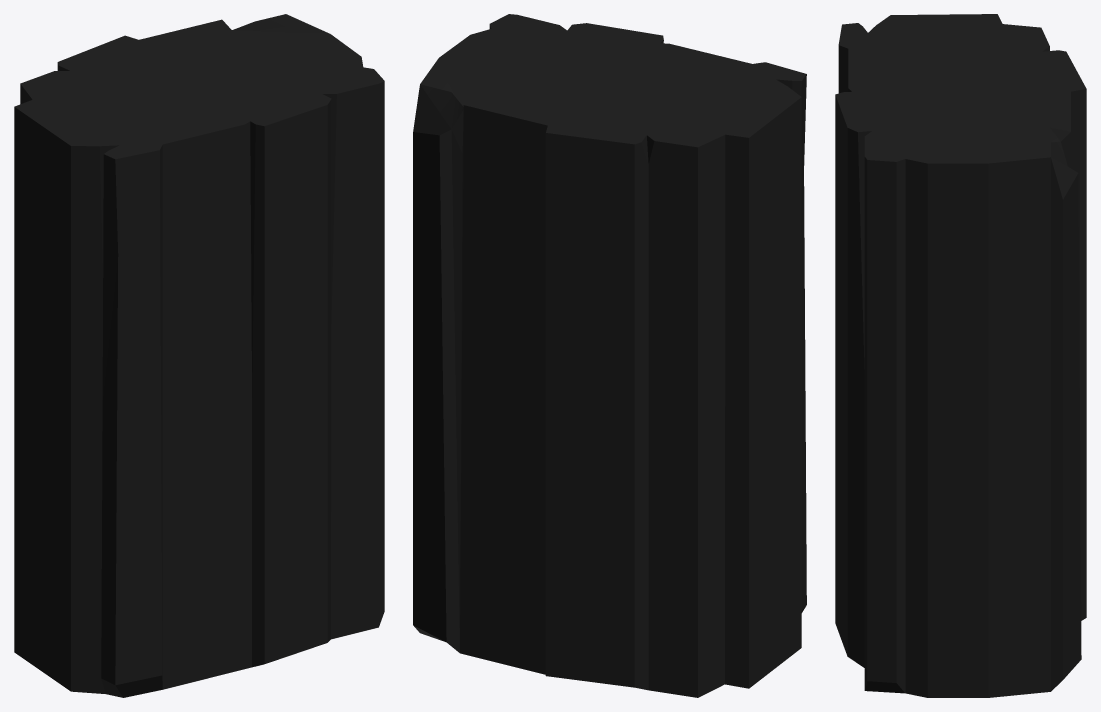
Rendered from FlatRockBlack_01.fbx.
3 views of the same model, side by side, from view 1: azimuth 30°, elevation 25°; view 2: azimuth 150°, elevation 25°; view 3: azimuth 270°, elevation 25° (orthographic). The views are drawn at different scales.
Visible parts, largest first — view 1: RockFlat_01; view 2: RockFlat_01; view 3: RockFlat_01.
Part boxes in pixels (bbox=[...]): RockFlat_01: bbox=[14, 14, 384, 697]; RockFlat_01: bbox=[413, 14, 806, 697]; RockFlat_01: bbox=[835, 14, 1086, 697].
Bounding box in the file's own units: 1296 × 2167 × 920.
